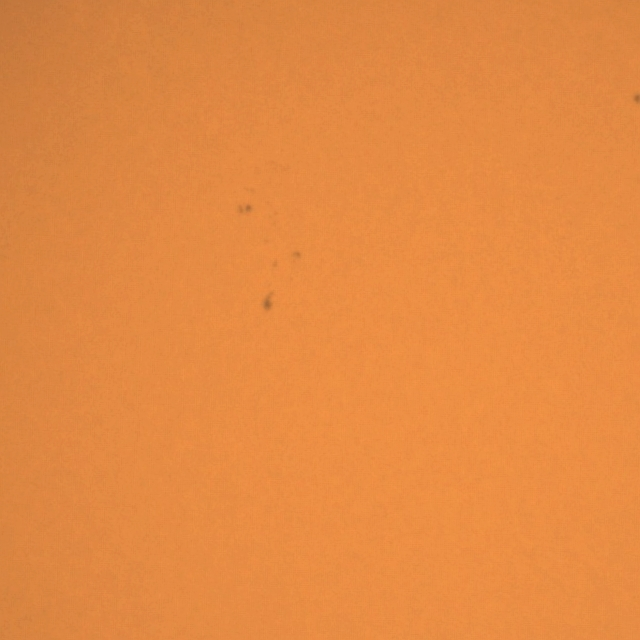sunspot: (260, 290, 276, 314), (236, 202, 254, 216), (290, 250, 303, 263), (632, 91, 640, 106)
